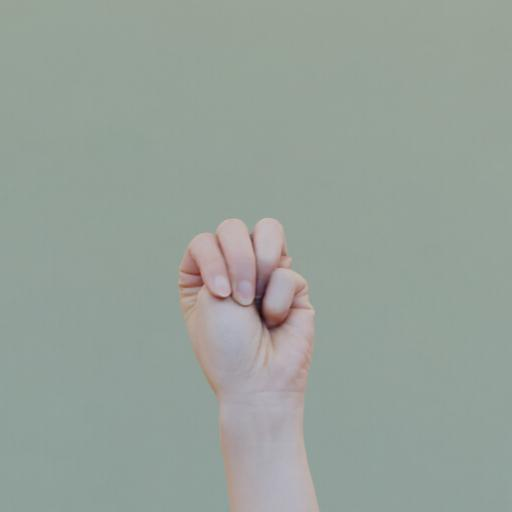M: (172, 212, 318, 390)
